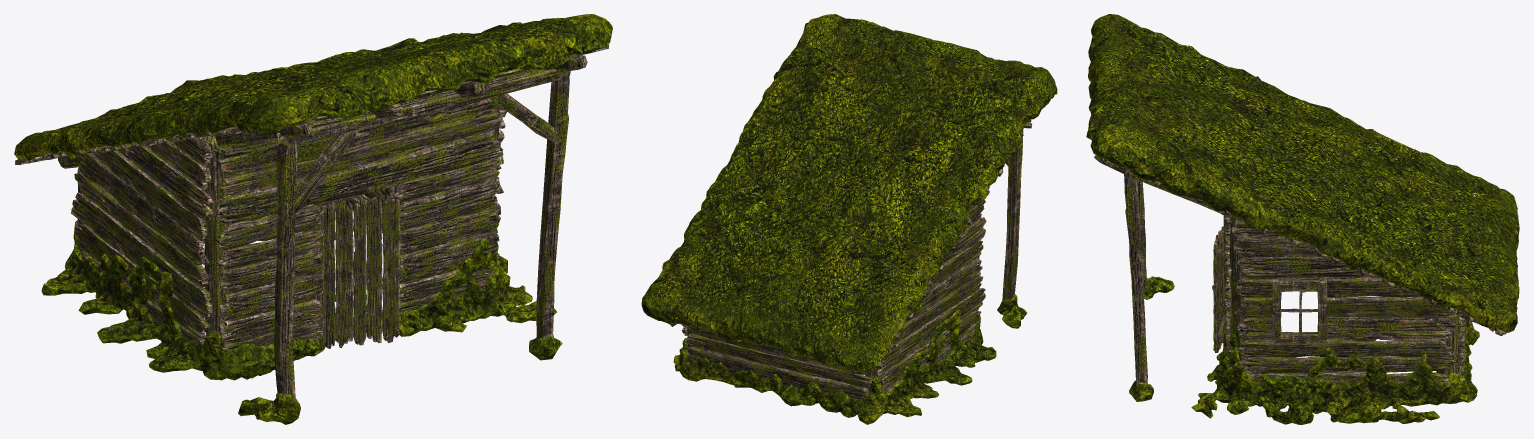
Rendered from huts2.FBX.
3 renders of one model, left to right at view 1: azimuth 30°, elevation 25°; view 2: azimuth 150°, elevation 25°; view 3: azimuth 270°, elevation 25°, orthographic. The views are drawn at different scales.
Visible parts, largest first — view 1: Object066; view 2: Object066; view 3: Object066.
Part boxes in pixels (x1,y1,x2,y2): Object066: (14,14,612,424); Object066: (641,14,1057,424); Object066: (1086,14,1519,424).
Size of the model in its own units: 132 by 120 by 160.
